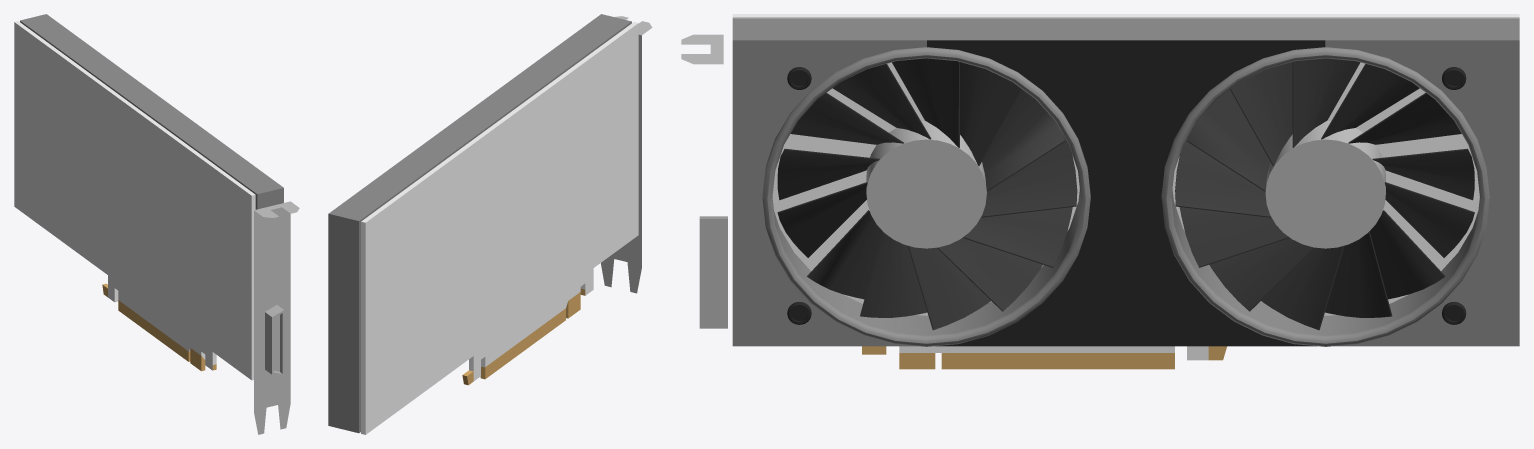
The model's file is 5_GP_50_GPU_c.glb.
3 views of the same model, side by side, from view 1: azimuth 30°, elevation 25°; view 2: azimuth 150°, elevation 25°; view 3: azimuth 270°, elevation 25° (orthographic). The views are drawn at different scales.
Parts seen in each view (by area): view 1: Cube003_7, Cube003_1, Cube003_2, Cube003_8; view 2: Cube003_7, Cube003_2, Cube003_1, Cube003_8; view 3: Cube003_5, Cube003_2, Cube003_3, Cube003_1, Cube003_6, Cube003_7, Cube003_8, Cube003_4.
Part boxes in pixels (x1,y1,x2,y2): Cube003_7: (14, 21, 255, 380); Cube003_1: (254, 201, 299, 434); Cube003_2: (20, 14, 283, 209); Cube003_8: (102, 283, 216, 371); Cube003_7: (361, 22, 638, 434); Cube003_2: (328, 14, 631, 433); Cube003_1: (601, 16, 652, 293); Cube003_8: (462, 288, 585, 385); Cube003_5: (777, 58, 1474, 330); Cube003_2: (732, 18, 1519, 346); Cube003_3: (927, 40, 1325, 346); Cube003_1: (681, 34, 1385, 328); Cube003_6: (762, 47, 1489, 346); Cube003_7: (732, 14, 1519, 360); Cube003_8: (862, 346, 1226, 369); Cube003_4: (787, 67, 1466, 324).
Size of the model in its own units: 0.1339 by 0.8225 by 1.58.
